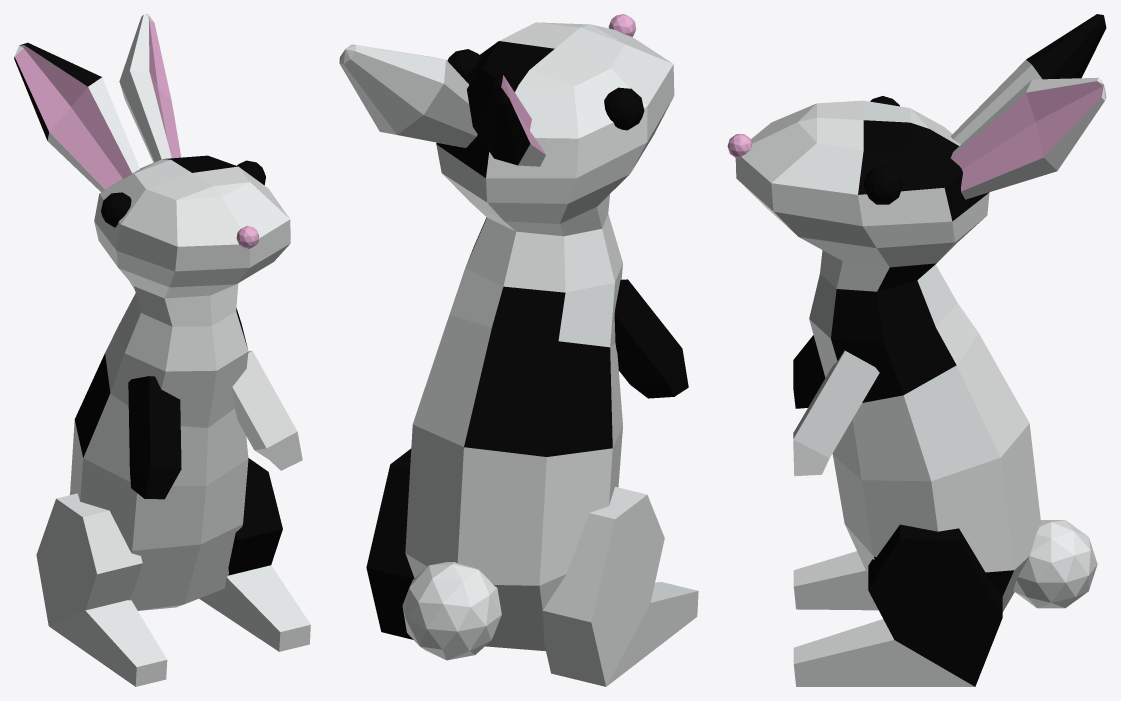
File: polyBunny_variant3.fbx
3 views of the same model, side by side, from view 1: azimuth 30°, elevation 25°; view 2: azimuth 150°, elevation 25°; view 3: azimuth 270°, elevation 25° (orthographic). The views are drawn at different scales.
Visible parts, largest first — view 1: Circle; view 2: Circle; view 3: Circle.
Boxes of the visible parts, bbox=[...] form: Circle: bbox=[14, 14, 310, 686]; Circle: bbox=[339, 14, 698, 686]; Circle: bbox=[727, 14, 1106, 686].
Size of the model in its own units: 157 by 432 by 250.
